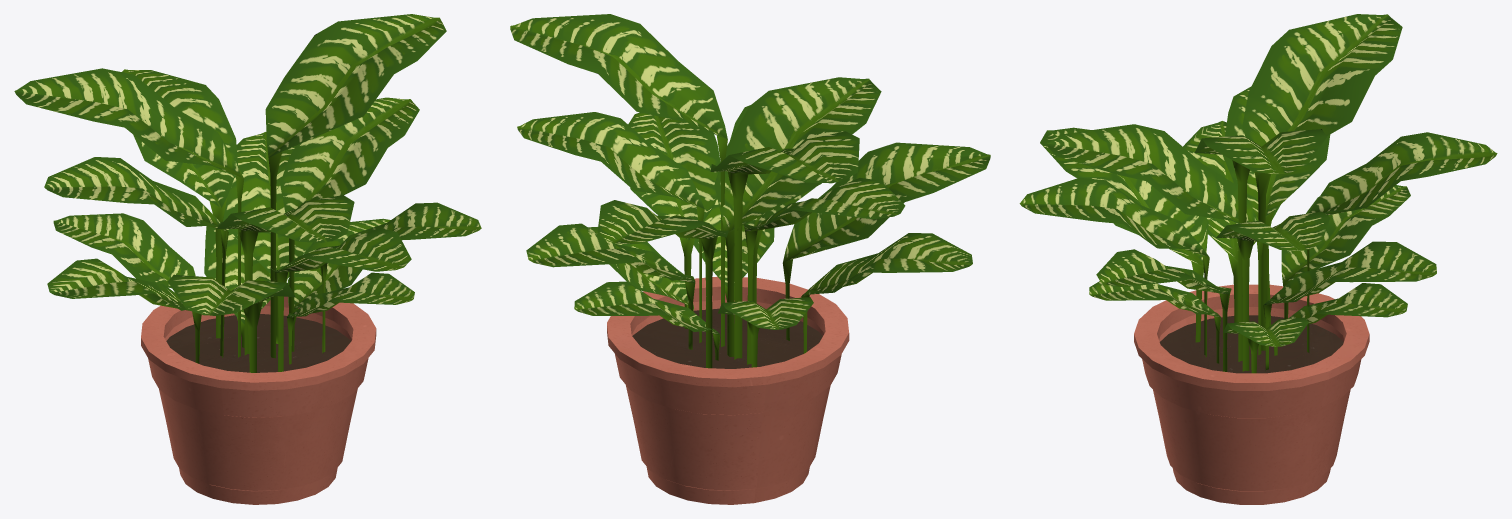
File: plant.glb
The picture shows the model from 3 angles, left to right: view 1: azimuth 30°, elevation 25°; view 2: azimuth 150°, elevation 25°; view 3: azimuth 270°, elevation 25°; orthographic projection. The views are drawn at different scales.
Visible parts, largest first — view 1: plant, pot; view 2: plant, pot; view 3: plant, pot.
Boxes of the visible parts, box(x1,y1,x2,y2) form: plant: box(14, 14, 481, 372); pot: box(141, 296, 376, 504); plant: box(510, 14, 990, 368); pot: box(607, 276, 849, 504); plant: box(1019, 14, 1497, 373); pot: box(1134, 284, 1369, 504).
Size of the model in its own units: 0.5912 by 0.5326 by 0.5862.
Materials: 4 (3 with a texture image).
